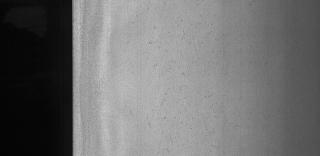silk spot: (138, 0, 222, 148)
